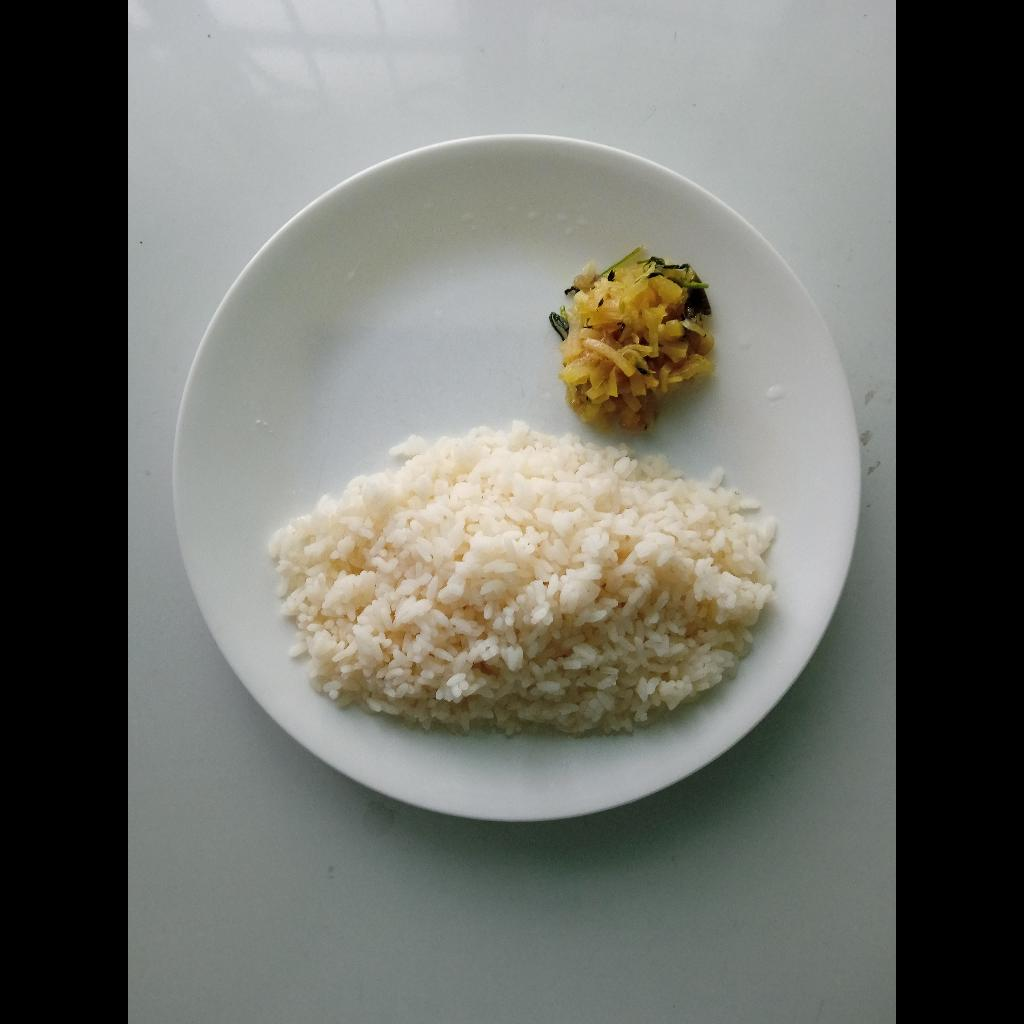cabbage: (549, 254, 714, 431)
rice: (265, 438, 783, 734)
